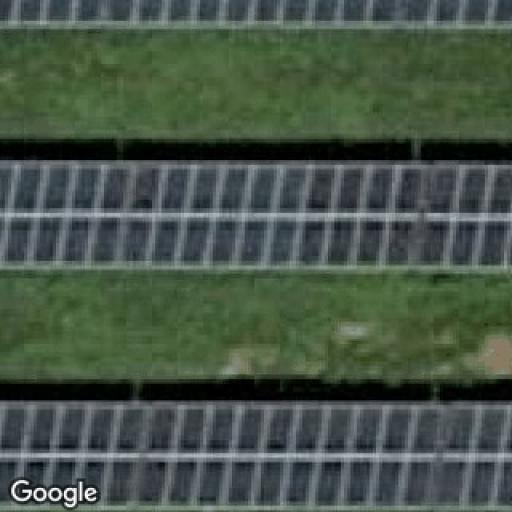solar-panel: (0, 156, 512, 274), (0, 398, 512, 512), (0, 0, 512, 30)
